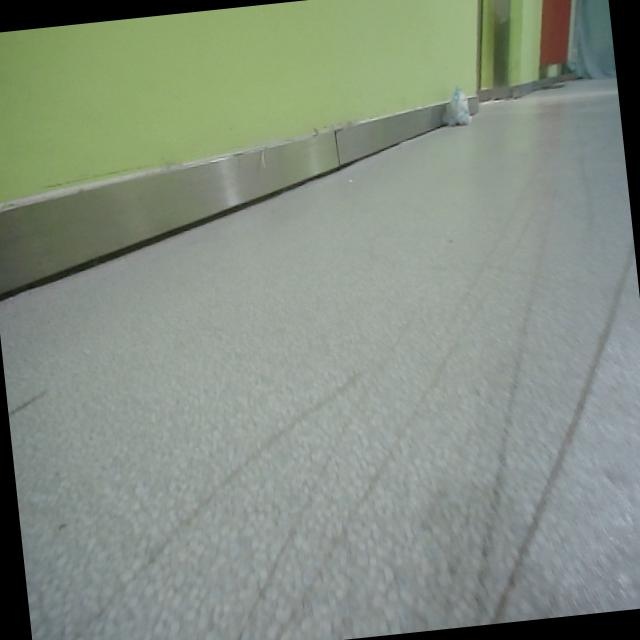xiaoba: (442, 79, 478, 133)
